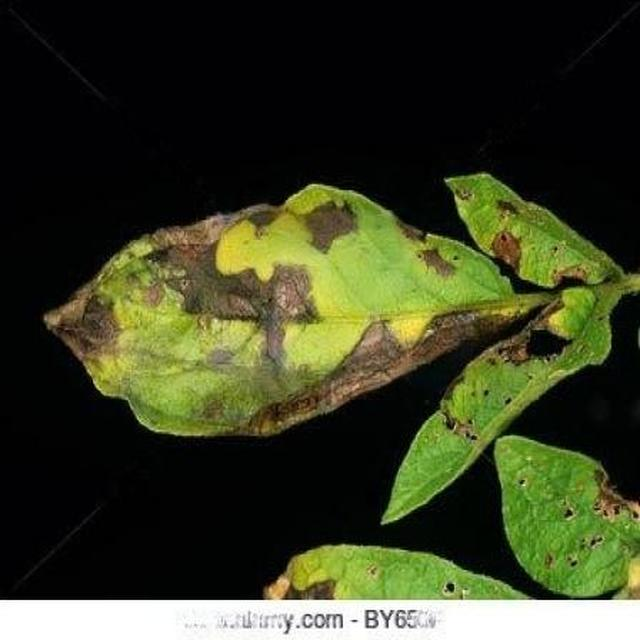Early Blight Leaf: (76, 259, 640, 629)
